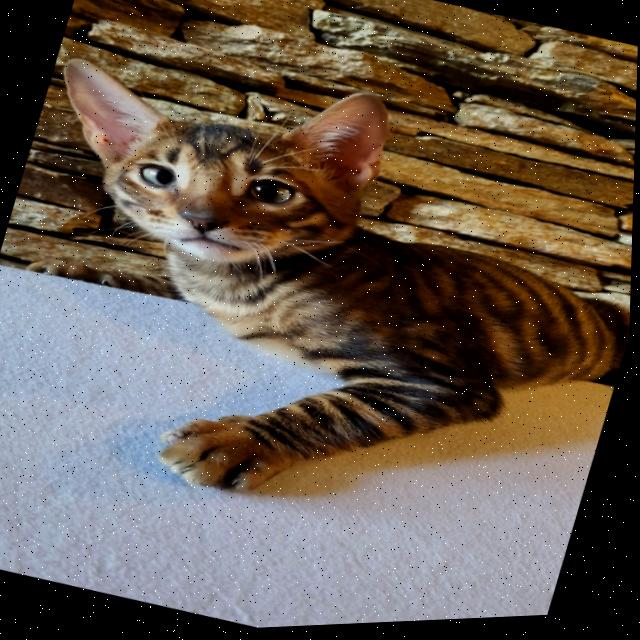Toyger: (0, 1, 639, 598)
